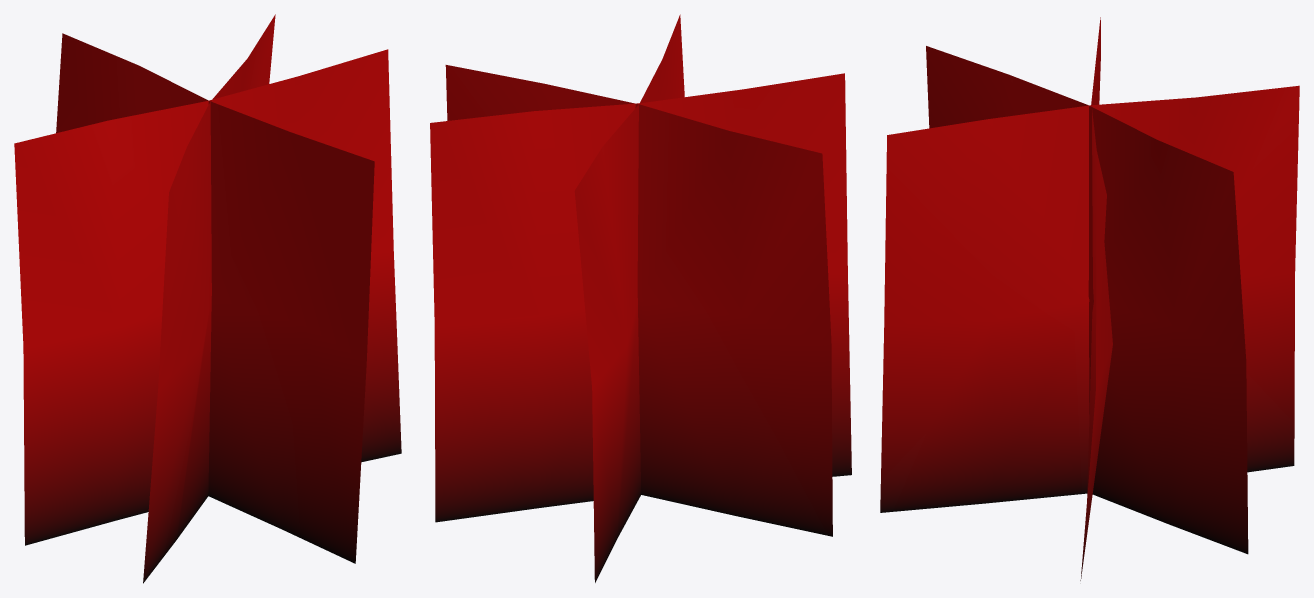
File: Grass_plane12.fbx
3 renders of one model, left to right at view 1: azimuth 30°, elevation 25°; view 2: azimuth 150°, elevation 25°; view 3: azimuth 270°, elevation 25°, orthographic.
Visible parts, largest first — view 1: Grass_plane12; view 2: Grass_plane12; view 3: Grass_plane12.
Part boxes in pixels (x1,y1,x2,y2): Grass_plane12: (14, 14, 401, 583); Grass_plane12: (430, 14, 851, 582); Grass_plane12: (880, 17, 1299, 580).
Bounding box in the file's own units: 20 × 20 × 19.56.
